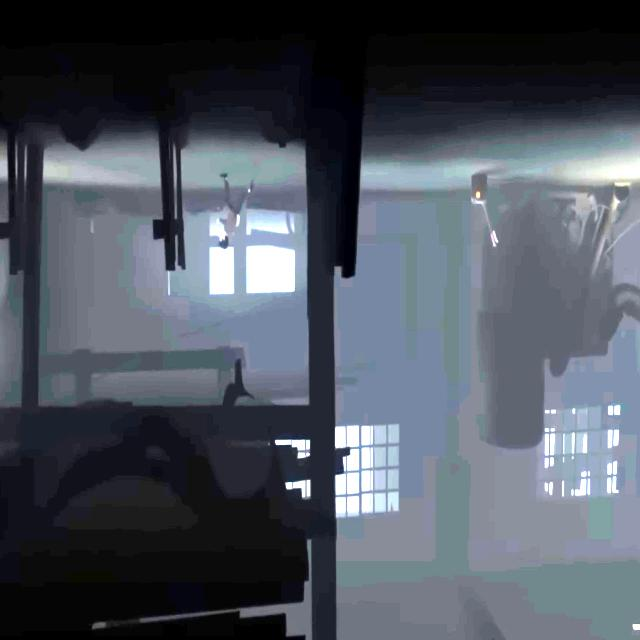boy: (216, 170, 253, 250)
